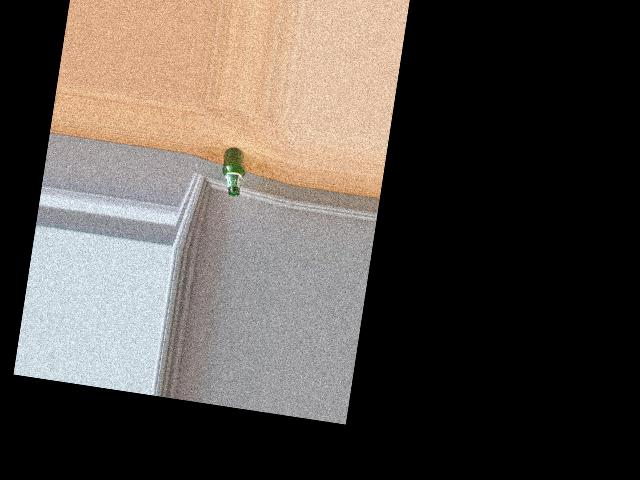beer: (218, 146, 248, 197)
